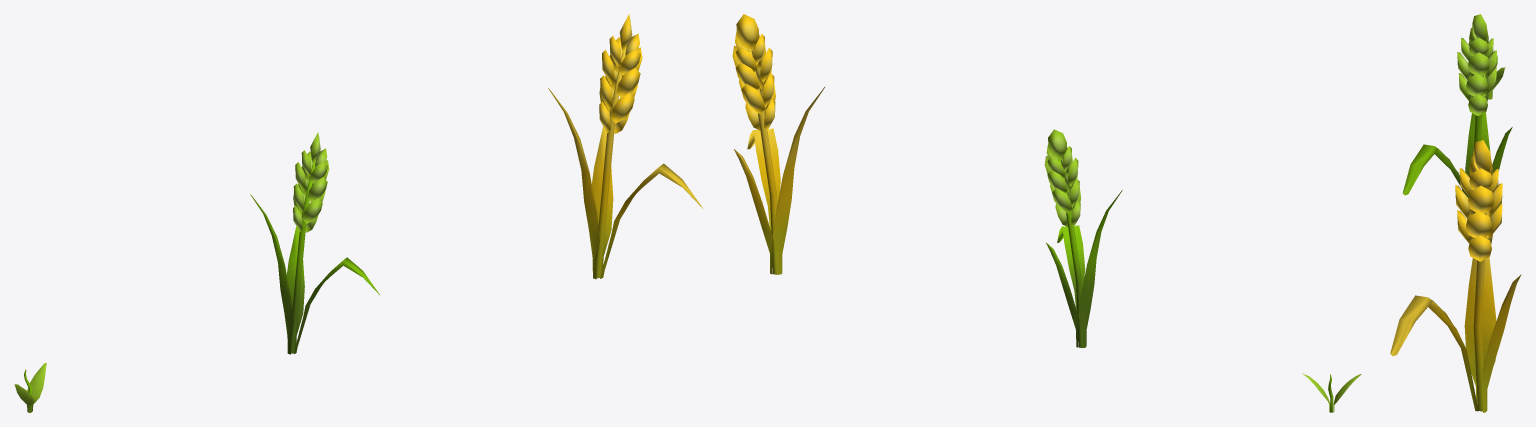
The model's file is SM_Rice.fbx.
The picture shows the model from 3 angles, left to right: view 1: azimuth 30°, elevation 25°; view 2: azimuth 150°, elevation 25°; view 3: azimuth 270°, elevation 25°; orthographic projection. The views are drawn at different scales.
Parts seen in each view (by area): view 1: SN_Rice3, SN_Rice2, SN_Rice1; view 2: SN_Rice3, SN_Rice2; view 3: SN_Rice3, SN_Rice2, SN_Rice1.
Part boxes in pixels (<box>): SN_Rice3: <box>548,14,702,279</box>; SN_Rice2: <box>250,132,380,354</box>; SN_Rice1: <box>14,363,46,412</box>; SN_Rice3: <box>732,14,824,274</box>; SN_Rice2: <box>1044,129,1122,347</box>; SN_Rice3: <box>1390,140,1521,412</box>; SN_Rice2: <box>1403,14,1512,197</box>; SN_Rice1: <box>1488,55,1505,99</box>.
Size of the model in its own units: 8155 by 3031 by 1256.
